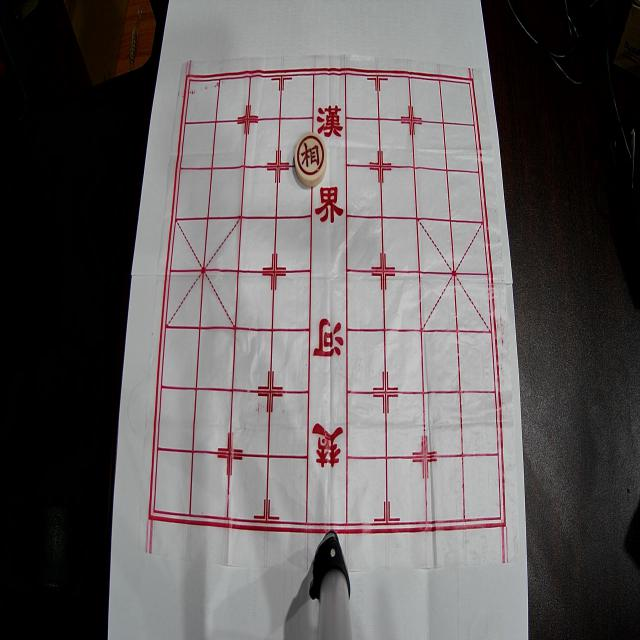red-elephant: (295, 132, 327, 186)
